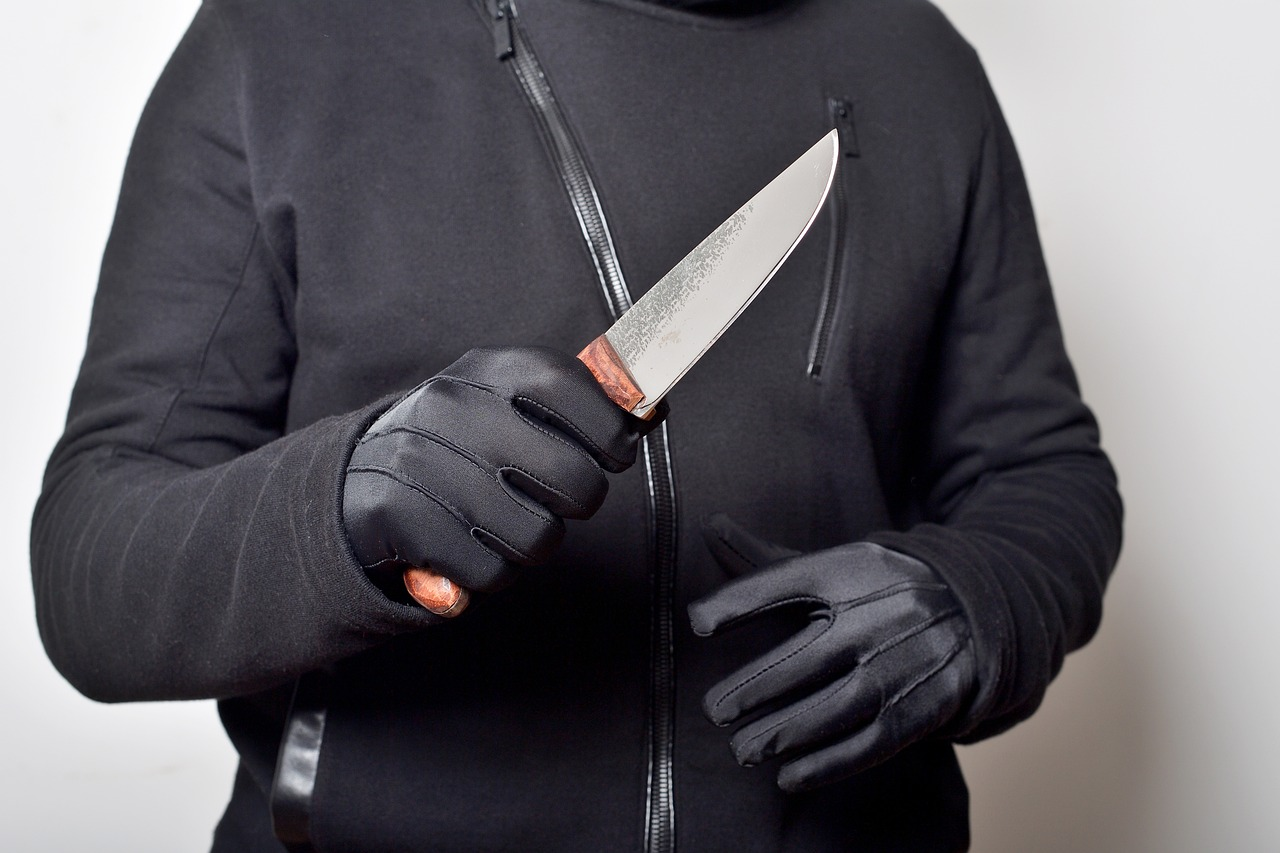knife: (395, 119, 851, 626)
